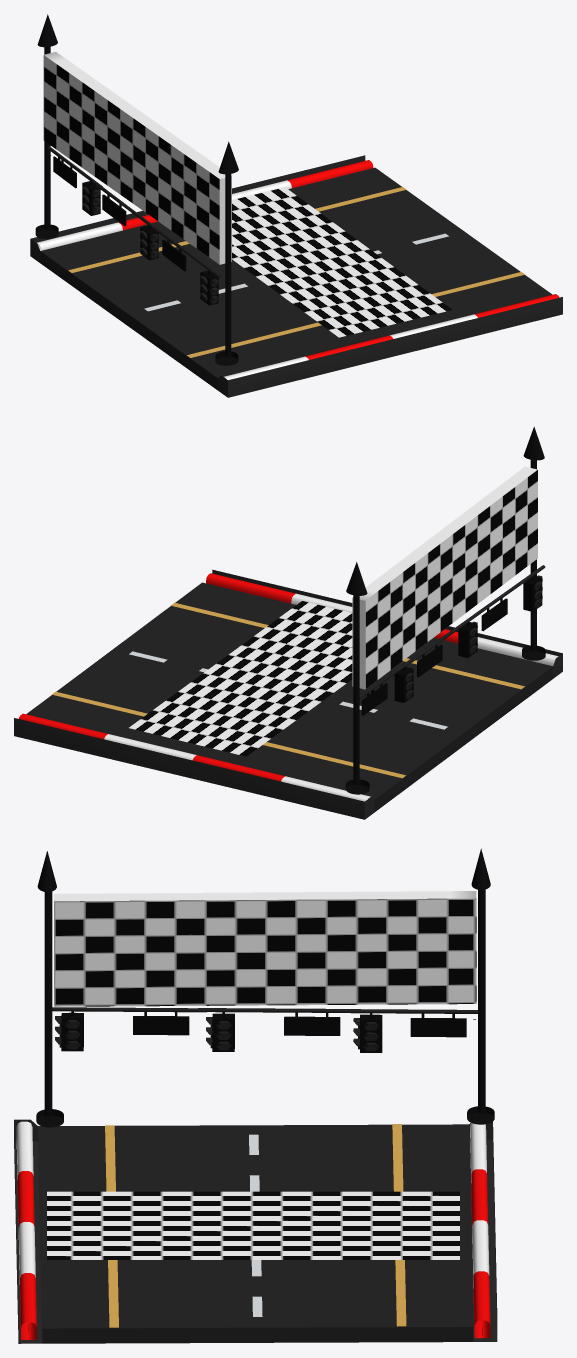
Rendered from RaceBoard.obj.
The picture shows the model from 3 angles, top to bottom: view 1: azimuth 30°, elevation 25°; view 2: azimuth 150°, elevation 25°; view 3: azimuth 270°, elevation 25°; orthographic projection. The views are drawn at different scales.
Visible parts, largest first — view 1: road_road_road_road, Board_Cube_Board_Cube, BeginTrack01_Cube.002_BeginTrack01_Cube.001-Mesh.001_BeginTrack_, TrafficLights_Cylinder012.002, Side2_StraightTrack01_Cube.001-Mesh.001_Side2_StraightTrack01_Cu, Side_StraightTrack01_Cube.001-Mesh.002_Side_StraightTrack01_Cube, Pole.l_Cylinder_Pole.l_Cylinder, Pole.r_Cylinder.002_Pole.r_Cylinder.002; view 2: road_road_road_road, Board_Cube_Board_Cube, BeginTrack01_Cube.002_BeginTrack01_Cube.001-Mesh.001_BeginTrack_, TrafficLights_Cylinder012.002, Side2_StraightTrack01_Cube.001-Mesh.001_Side2_StraightTrack01_Cu, Side_StraightTrack01_Cube.001-Mesh.002_Side_StraightTrack01_Cube, Pole.r_Cylinder.002_Pole.r_Cylinder.002, Pole.l_Cylinder_Pole.l_Cylinder; view 3: road_road_road_road, Board_Cube_Board_Cube, BeginTrack01_Cube.002_BeginTrack01_Cube.001-Mesh.001_BeginTrack_, TrafficLights_Cylinder012.002, Side_StraightTrack01_Cube.001-Mesh.002_Side_StraightTrack01_Cube, Side2_StraightTrack01_Cube.001-Mesh.001_Side2_StraightTrack01_Cu, Pole.l_Cylinder_Pole.l_Cylinder, Pole.r_Cylinder.002_Pole.r_Cylinder.002.
Part boxes in pixels (x1,y1,x2,y2): road_road_road_road: (30, 155, 562, 397); Board_Cube_Board_Cube: (43, 52, 231, 264); BeginTrack01_Cube.002_BeginTrack01_Cube.001-Mesh.001_BeginTrack_: (232, 187, 452, 337); TrafficLights_Cylinder012.002: (47, 146, 221, 305); Side2_StraightTrack01_Cube.001-Mesh.001_Side2_StraightTrack01_Cu: (36, 160, 373, 250); Side_StraightTrack01_Cube.001-Mesh.002_Side_StraightTrack01_Cube: (223, 294, 559, 379); Pole.l_Cylinder_Pole.l_Cylinder: (215, 174, 238, 365); Pole.r_Cylinder.002_Pole.r_Cylinder.002: (35, 46, 58, 238); road_road_road_road: (14, 569, 562, 819); Board_Cube_Board_Cube: (352, 466, 537, 689); BeginTrack01_Cube.002_BeginTrack01_Cube.001-Mesh.001_BeginTrack_: (129, 601, 352, 756); TrafficLights_Cylinder012.002: (359, 565, 545, 715); Side2_StraightTrack01_Cube.001-Mesh.001_Side2_StraightTrack01_Cu: (18, 713, 370, 801); Side_StraightTrack01_Cube.001-Mesh.002_Side_StraightTrack01_Cube: (206, 573, 558, 665); Pole.r_Cylinder.002_Pole.r_Cylinder.002: (345, 595, 369, 794); Pole.l_Cylinder_Pole.l_Cylinder: (522, 460, 545, 660); road_road_road_road: (14, 1119, 497, 1343); Board_Cube_Board_Cube: (54, 891, 476, 1006); BeginTrack01_Cube.002_BeginTrack01_Cube.001-Mesh.001_BeginTrack_: (47, 1191, 459, 1259); TrafficLights_Cylinder012.002: (52, 1007, 478, 1052); Side_StraightTrack01_Cube.001-Mesh.002_Side_StraightTrack01_Cube: (16, 1121, 36, 1339); Side2_StraightTrack01_Cube.001-Mesh.001_Side2_StraightTrack01_Cu: (470, 1123, 490, 1338); Pole.l_Cylinder_Pole.l_Cylinder: (36, 891, 63, 1127); Pole.r_Cylinder.002_Pole.r_Cylinder.002: (467, 889, 494, 1124).
Bounding box in the file's own units: 2.02 × 1.38 × 2.29.
